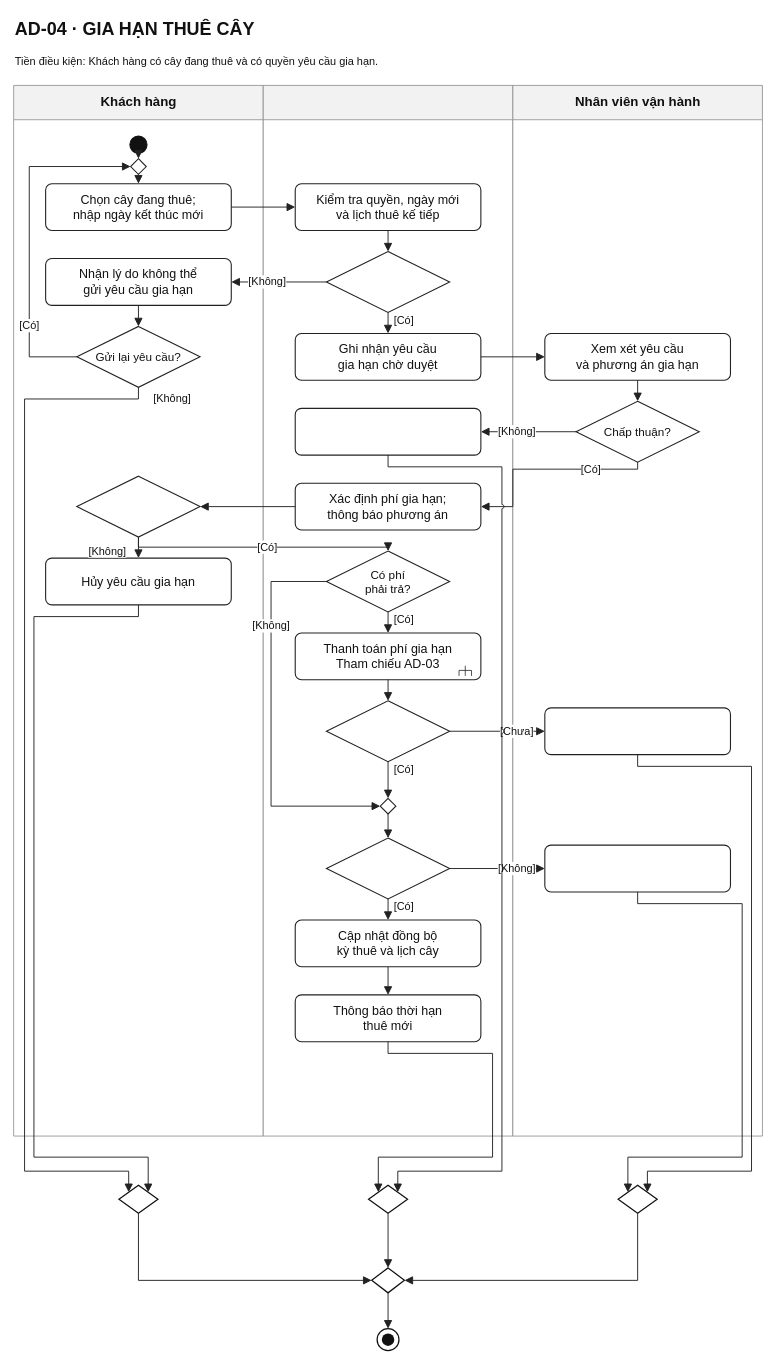
Some shapes in this 776 by 1364 pixel diagram are drawn without their labels. Each missing label, with the box of its shape:
Ghi nhận chờ thanh toán; giữ nguyên kỳ thuê: (544, 707, 731, 755)
Ghi nhận từ chối và thông báo lý do: (294, 407, 481, 455)
Hệ thống Plantify: (262, 85, 513, 1136)
Lịch vẫn khả dụng?: (325, 837, 450, 899)
Thanh toán thành công?: (325, 700, 450, 762)
Thông báo chưa thể áp dụng; xử lý khoản đã thu nếu có: (544, 844, 731, 892)
Đồng ý phương án?: (76, 475, 200, 537)
Đủ điều kiện gia hạn?: (325, 251, 450, 313)
